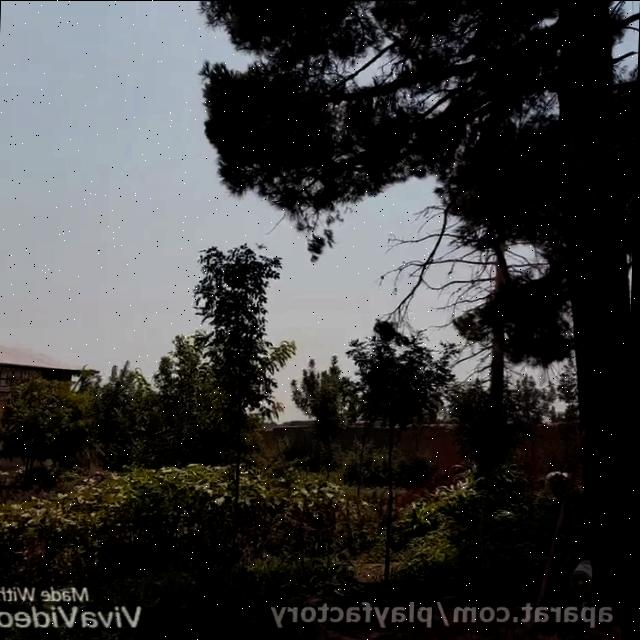drone: (250, 233, 273, 251)
